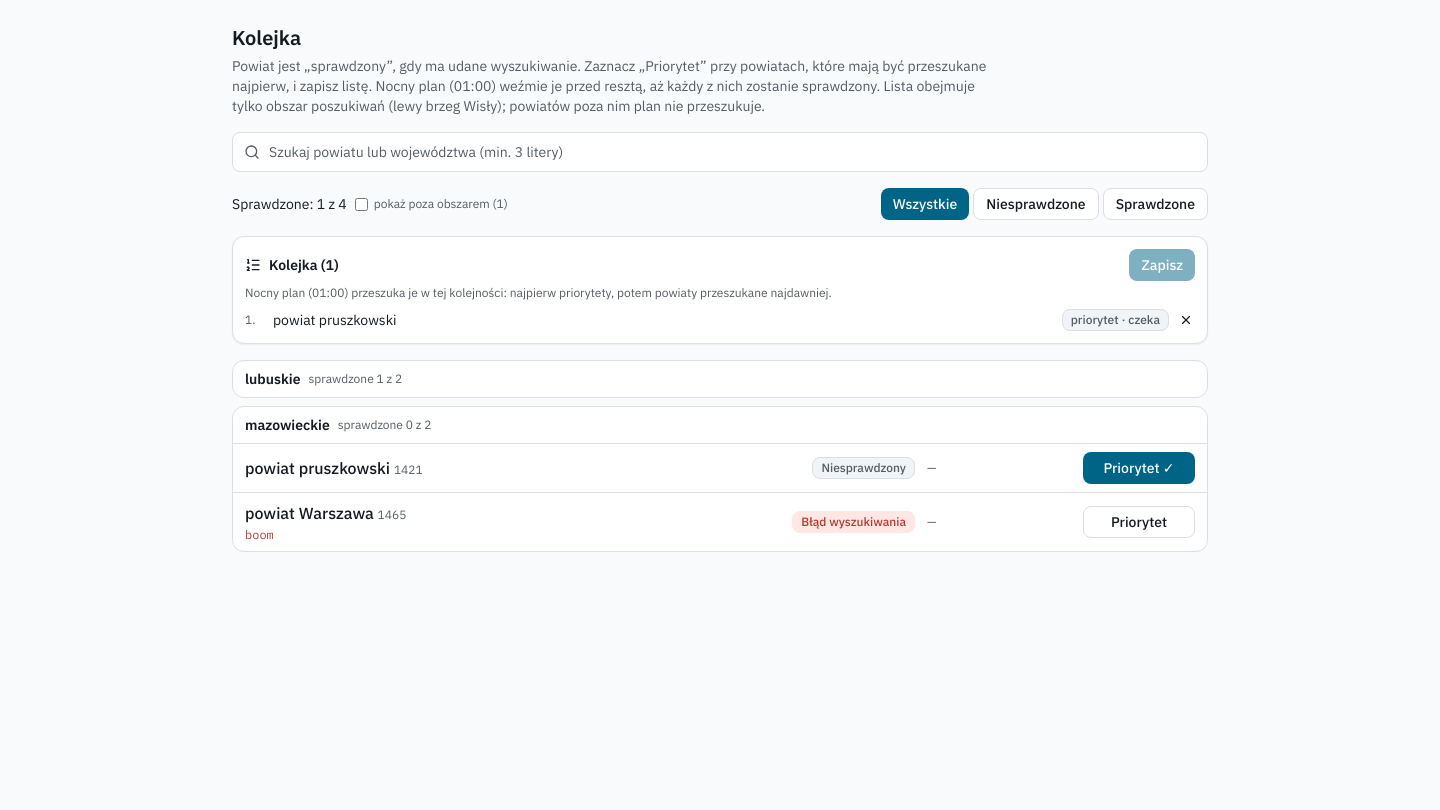
PowiatyPage › hides powiats outside the AOI until asked
Expected: the text with test id "checked-count" reads "Sprawdzone: 1 z 4", [232,194,347,214]
Expected: the text "lubelskie" is not shown
Click the checkbox labelled "pokaż poza obszarem (1)": [361, 204] box [355,198,368,210]
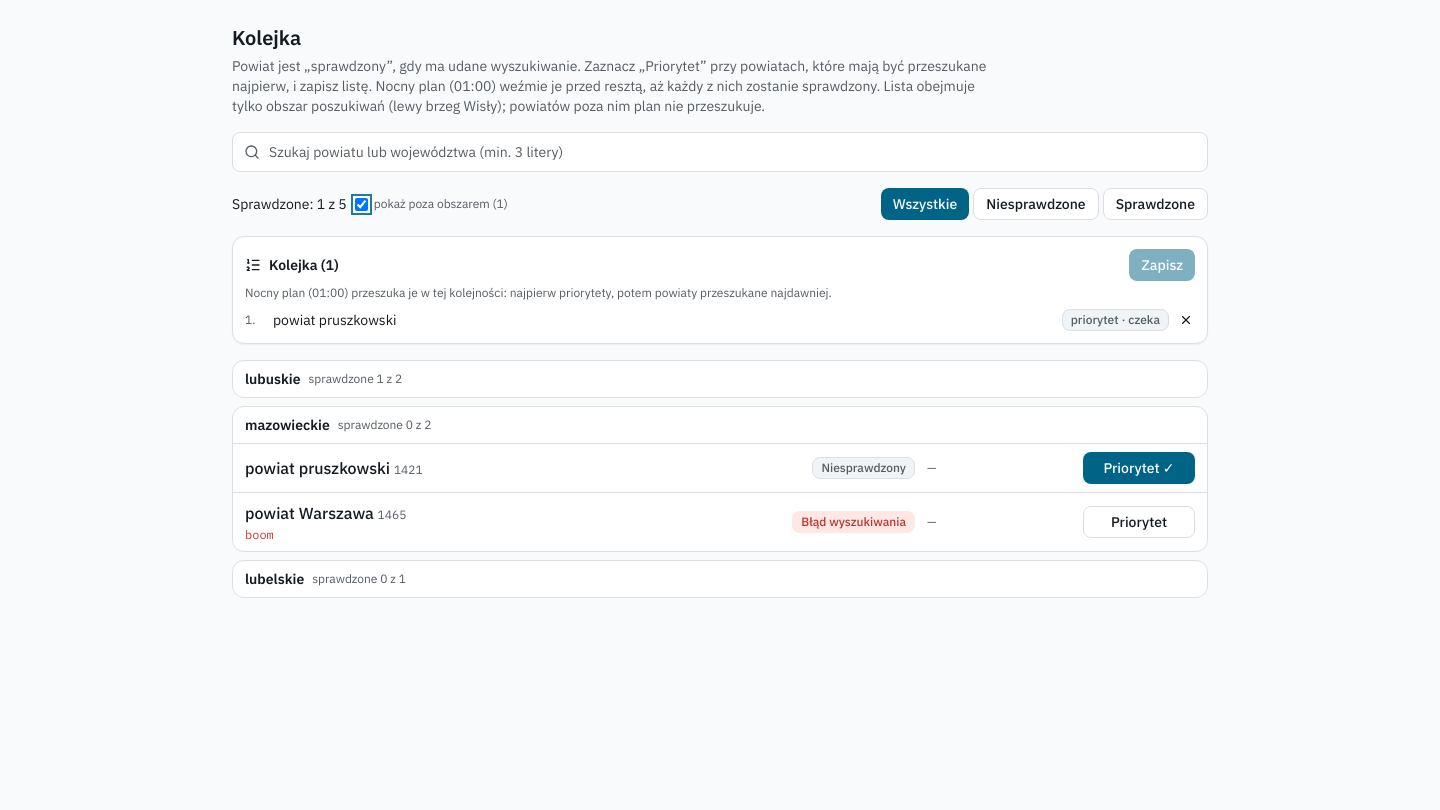
Expected: the text with test id "checked-count" reads "Sprawdzone: 1 z 5", [232,194,347,214]
Click the text "lubelskie": [275, 579] box [245,569,304,589]
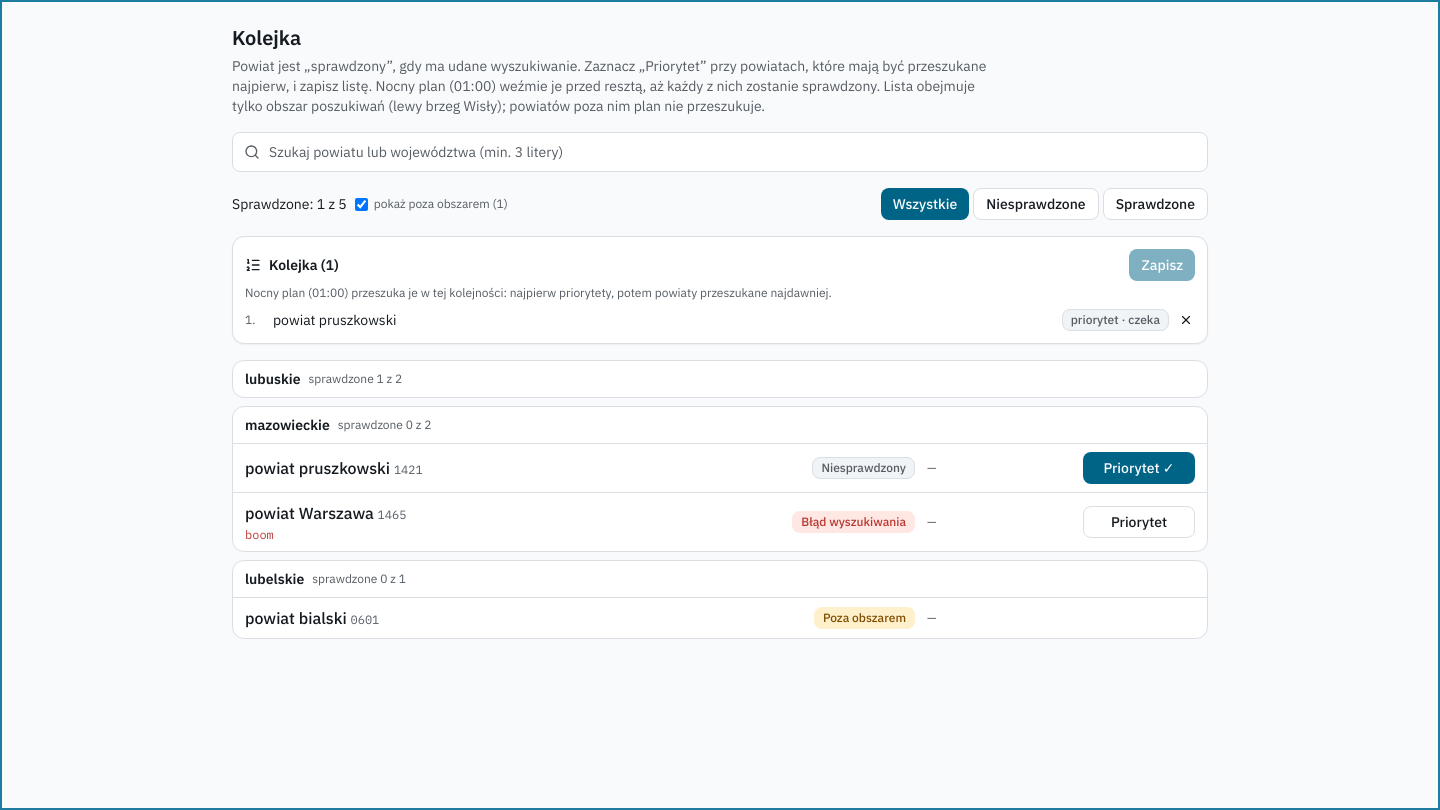
Expected: the text "Poza obszarem" is shown, [814,607,915,629]
Click the checkbox labelled "pokaż poza obszarem (1)": [361, 204] box [355,198,368,210]
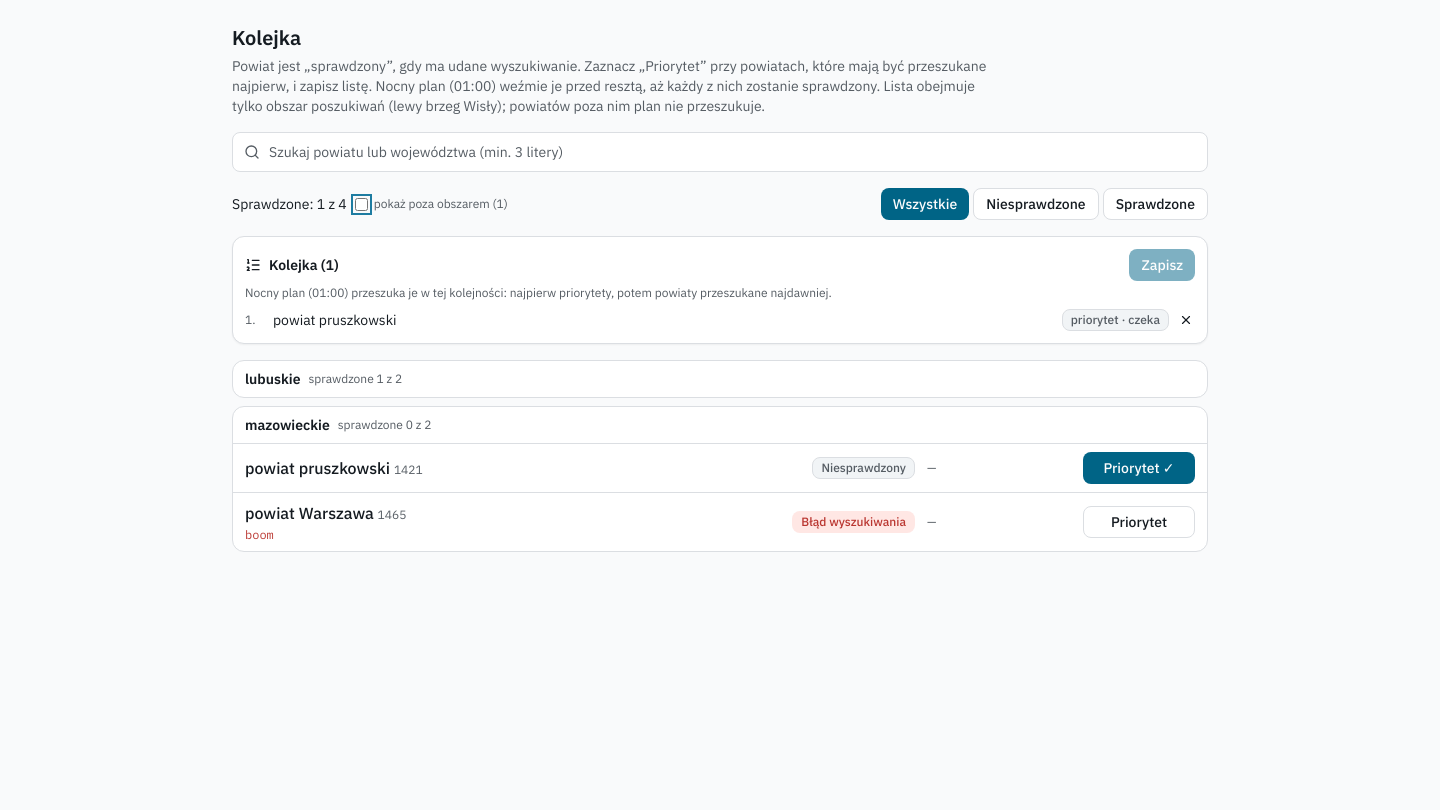
Expected: the heading "lubelskie" is gone
